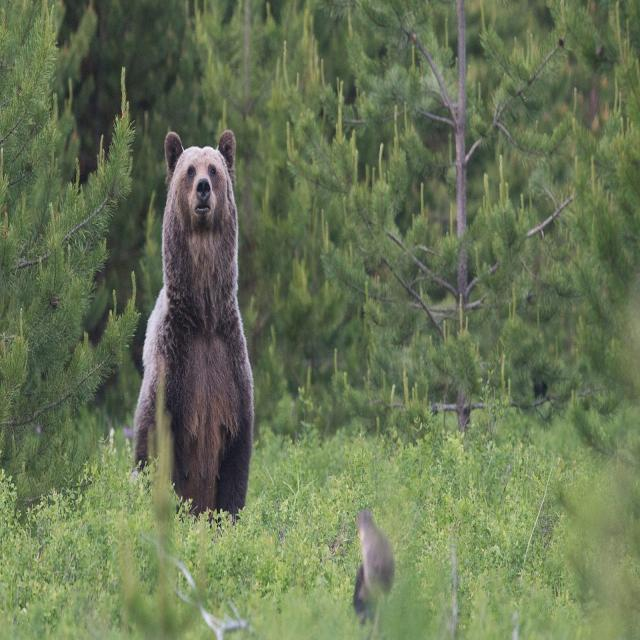Bear: (132, 131, 256, 522)
